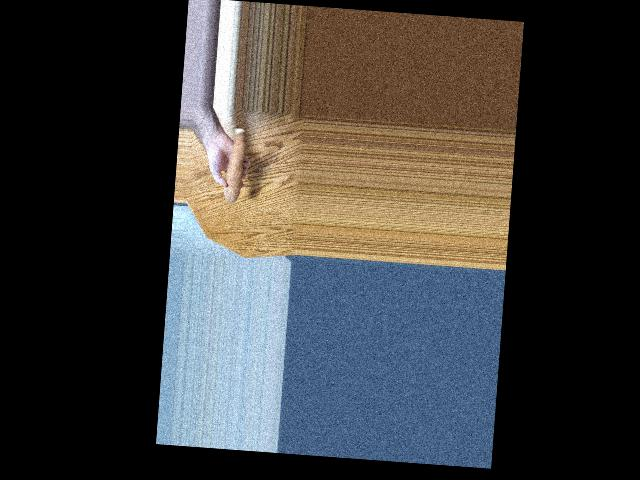sweet_potato: (226, 133, 250, 204)
